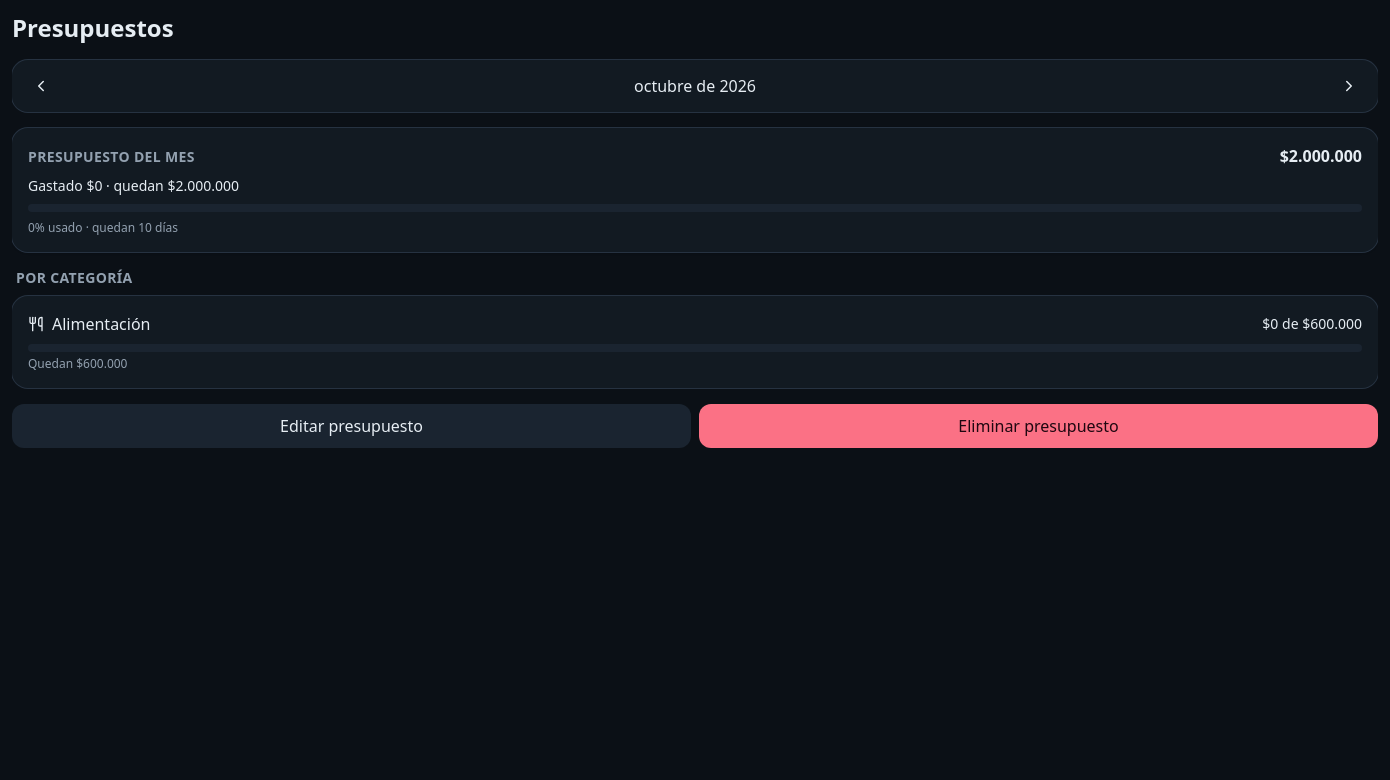
Test case: BudgetsPage (spec 8.9) › toasts the error when clearing fails
This screenshot has width=1390, height=780.
Click the button "Eliminar presupuesto". click: (1038, 426)
box: [699, 404, 1378, 448]
Wait 500 ms
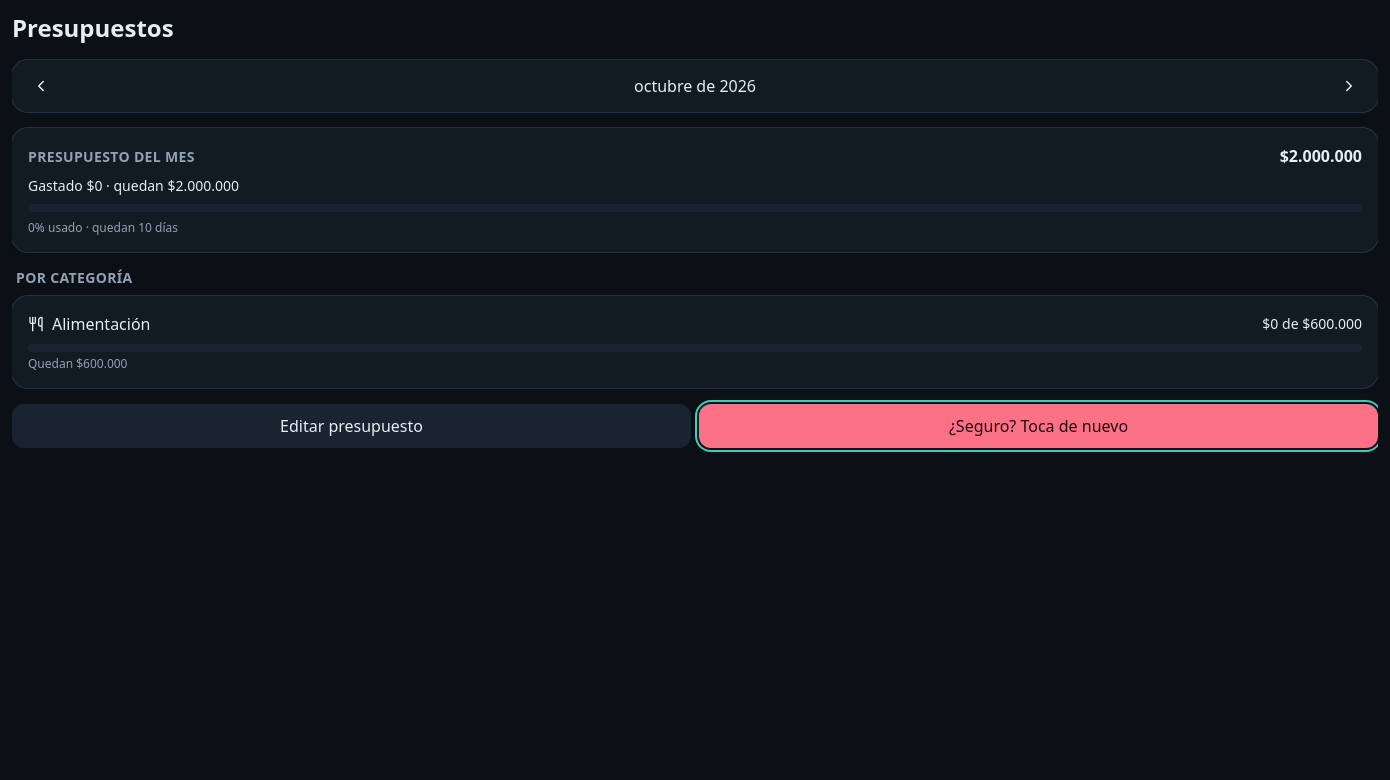
Click the button with aria-label "Confirmar: Eliminar presupuesto". click: (1038, 426)
box: [699, 404, 1378, 448]
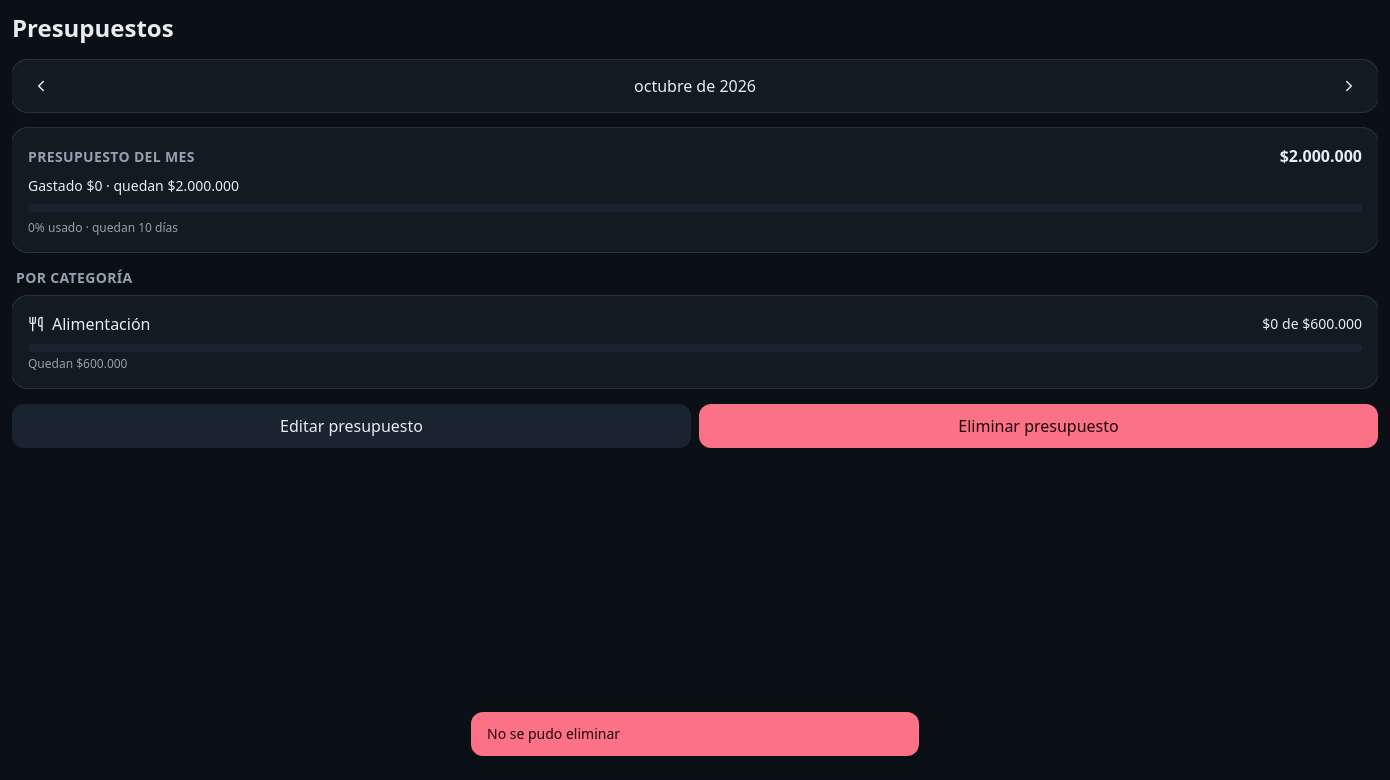
Check: the text "No se pudo eliminar" is shown, box [471, 712, 919, 756]
